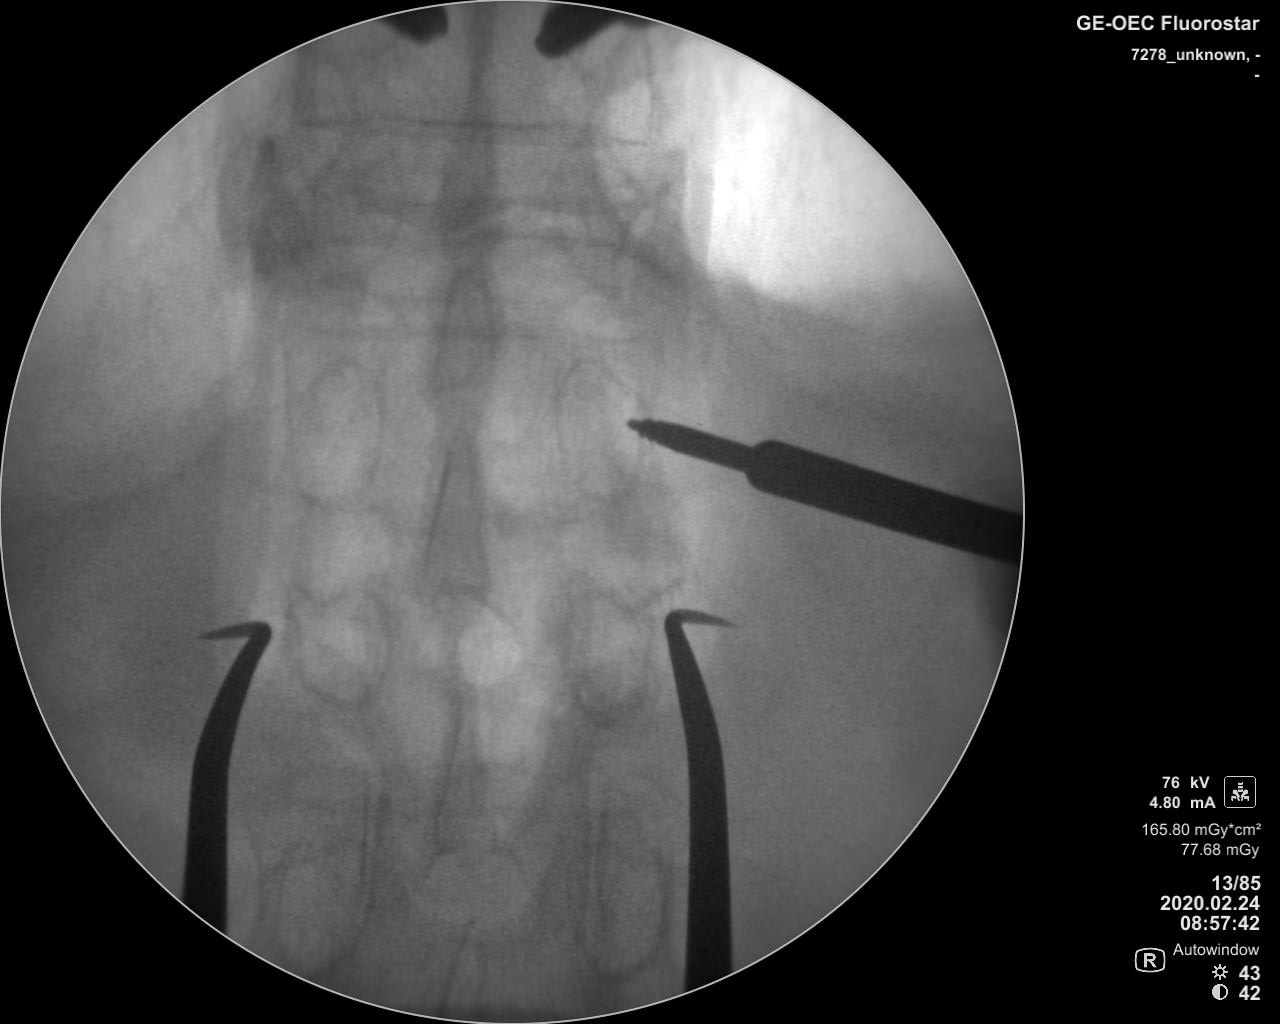eyes: (278, 365, 385, 514), (562, 833, 664, 976), (550, 352, 639, 511), (283, 582, 391, 714), (269, 832, 365, 965), (559, 584, 647, 725)
line: (287, 111, 652, 158), (269, 315, 655, 356), (289, 187, 661, 222)
nose: (432, 67, 504, 253), (418, 434, 489, 613), (424, 677, 487, 855), (427, 255, 498, 408)
